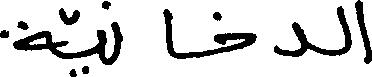X: (0, 16, 51, 56), (216, 7, 254, 58), (274, 17, 306, 61), (356, 0, 371, 68), (336, 1, 350, 60), (165, 4, 174, 62), (97, 0, 104, 68), (113, 17, 120, 67)
